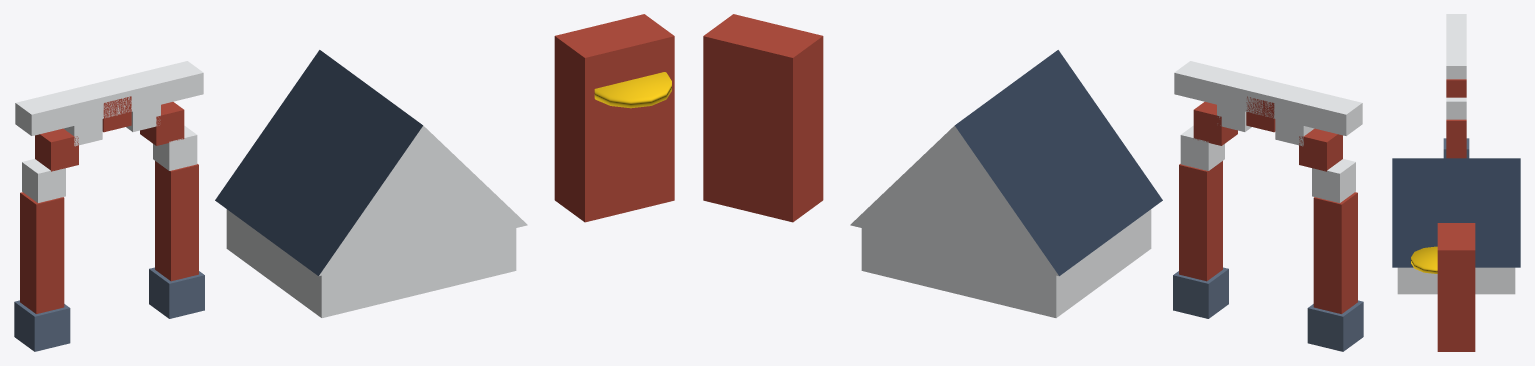
The model's file is kit_french_colonial_arch_roof.glb.
3 views of the same model, side by side, from view 1: azimuth 30°, elevation 25°; view 2: azimuth 150°, elevation 25°; view 3: azimuth 270°, elevation 25° (orthographic). The views are drawn at different scales.
Parts seen in each view (by area): view 1: french_slate_module_slope_l, clock_pedestal, french_slate_module_gable_f, roof_wall_base, arch_spandrel_top, arch_pillar_l, arch_pillar_r, arch_plinth_l, arch_plinth_r, art_deco_clock_rim, arch_voussoir_5, arch_voussoir_6 (+5 smaller); view 2: french_slate_module_slope_l, clock_pedestal, french_slate_module_gable_b, roof_wall_base, arch_spandrel_top, arch_pillar_l, arch_pillar_r, arch_plinth_l, arch_plinth_r, arch_voussoir_5, arch_voussoir_6, arch_voussoir_0 (+4 smaller); view 3: french_slate_module_slope_r, clock_pedestal, roof_wall_base, arch_spandrel_top, arch_pillar_r, art_deco_clock_rim, arch_voussoir_0, arch_voussoir_1, arch_plinth_l.
Part boxes in pixels (<box>): french_slate_module_slope_l: <box>215,50,422,275</box>; clock_pedestal: <box>554,14,674,222</box>; french_slate_module_gable_f: <box>319,125,527,275</box>; roof_wall_base: <box>226,209,516,317</box>; arch_spandrel_top: <box>15,61,203,135</box>; arch_pillar_l: <box>20,192,64,313</box>; arch_pillar_r: <box>155,161,198,281</box>; arch_plinth_l: <box>14,300,70,351</box>; arch_plinth_r: <box>149,267,204,318</box>; art_deco_clock_rim: <box>594,72,671,108</box>; arch_voussoir_5: <box>35,128,78,171</box>; arch_voussoir_6: <box>22,159,65,202</box>; french_slate_module_slope_l: <box>955,50,1162,275</box>; clock_pedestal: <box>703,14,823,222</box>; french_slate_module_gable_b: <box>850,125,1058,275</box>; roof_wall_base: <box>861,209,1151,317</box>; arch_spandrel_top: <box>1174,61,1362,135</box>; arch_pillar_l: <box>1313,192,1357,313</box>; arch_pillar_r: <box>1179,161,1222,281</box>; arch_plinth_l: <box>1307,300,1363,351</box>; arch_plinth_r: <box>1173,267,1228,318</box>; arch_voussoir_5: <box>1299,128,1342,171</box>; arch_voussoir_6: <box>1312,159,1355,202</box>; arch_voussoir_0: <box>1180,125,1224,170</box>; french_slate_module_slope_r: <box>1392,158,1520,267</box>; clock_pedestal: <box>1437,223,1475,351</box>; roof_wall_base: <box>1397,267,1515,294</box>; arch_spandrel_top: <box>1446,14,1466,79</box>; arch_pillar_r: <box>1446,119,1466,158</box>; art_deco_clock_rim: <box>1411,246,1437,273</box>; arch_voussoir_0: <box>1446,97,1466,119</box>; arch_voussoir_1: <box>1446,79,1466,97</box>; arch_plinth_l: <box>1443,138,1469,158</box>.
Bounding box in the file's own units: 17 × 6.03 × 4.8.
